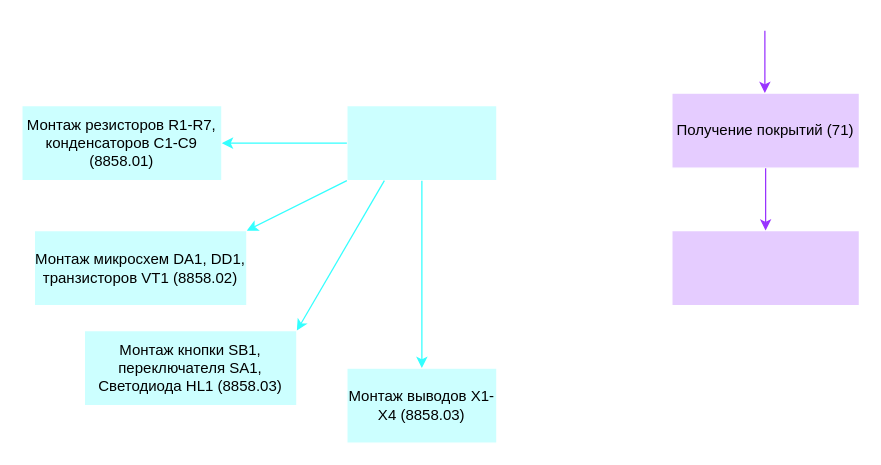
This 881x465 diagram has some shape labels left out. Here are the shapes that lost their labels. From the top down, the centre of each, then its label:
the point at 421,142: Сборка (88)
the point at 765,267: Флюсование (7139)
